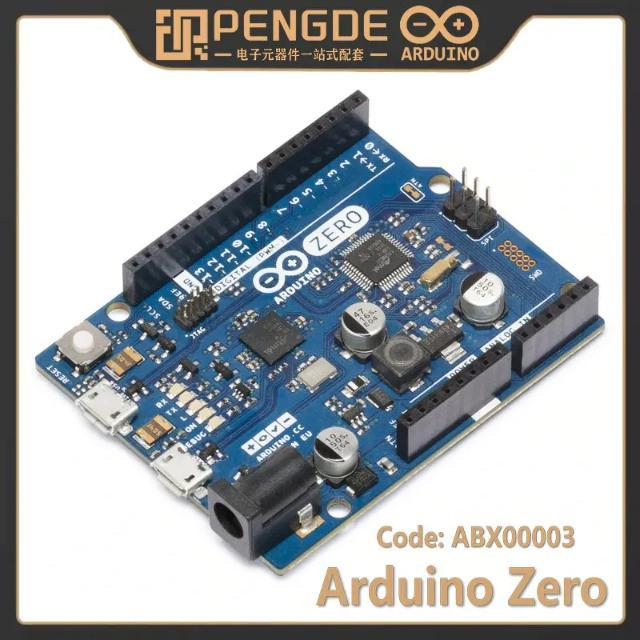Arduino-Zero: (37, 94, 601, 573)
